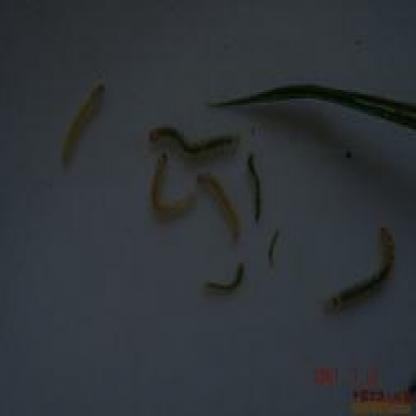leaf-folder: (308, 220, 405, 319), (182, 162, 250, 249), (141, 113, 248, 168), (61, 66, 112, 172), (136, 150, 197, 224), (198, 258, 262, 300), (240, 145, 272, 222), (264, 216, 288, 276)
